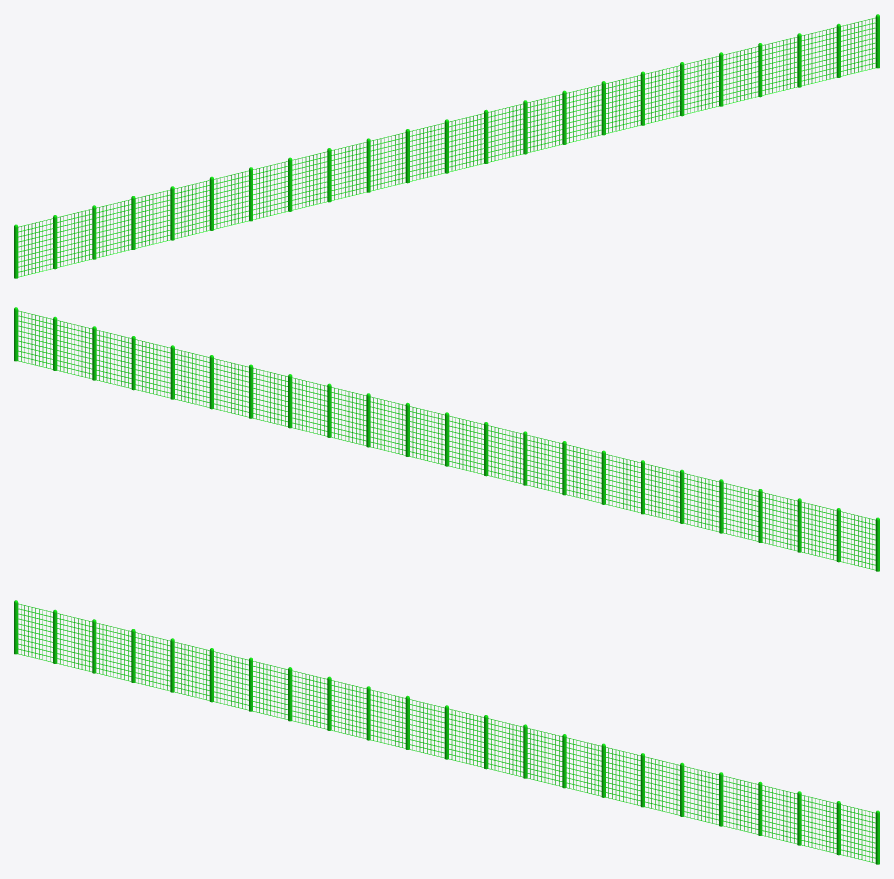
The model's file is Wire_netting.glb.
3 renders of one model, top to bottom at view 1: azimuth 30°, elevation 25°; view 2: azimuth 150°, elevation 25°; view 3: azimuth 330°, elevation 25°, orthographic.
Parts seen in each view (by area): view 1: Wire netting; view 2: Wire netting; view 3: Wire netting.
Part boxes in pixels (box(x1,y1,x2,y2)): Wire netting: box(14, 14, 879, 278); Wire netting: box(14, 307, 879, 571); Wire netting: box(14, 600, 879, 864).
Size of the model in its own units: 358 by 21 by 1.5.
